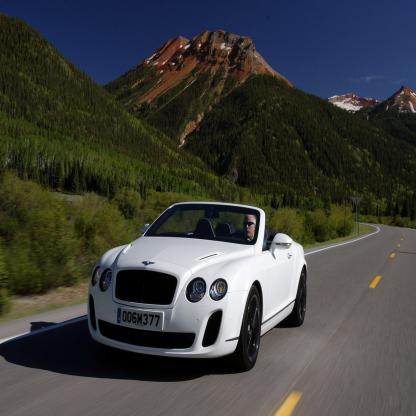Vehicle: (87, 199, 310, 371)
